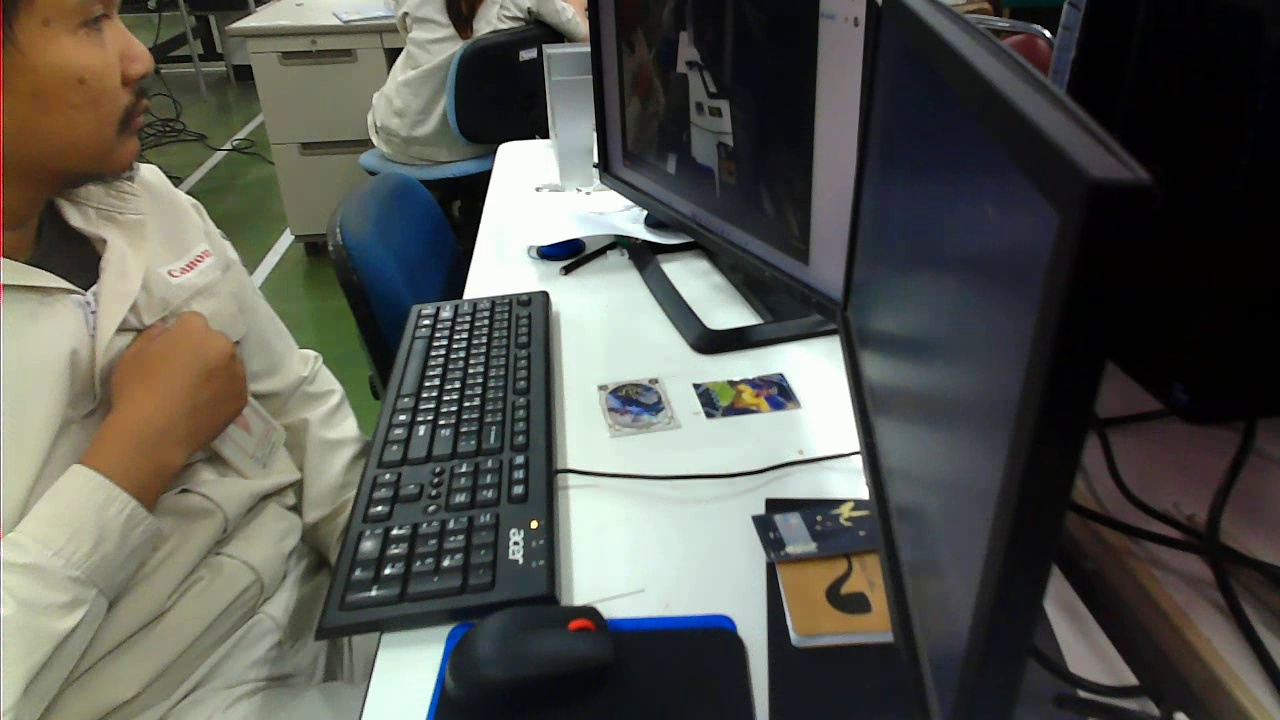can: (684, 364, 807, 419), (590, 368, 680, 436)
